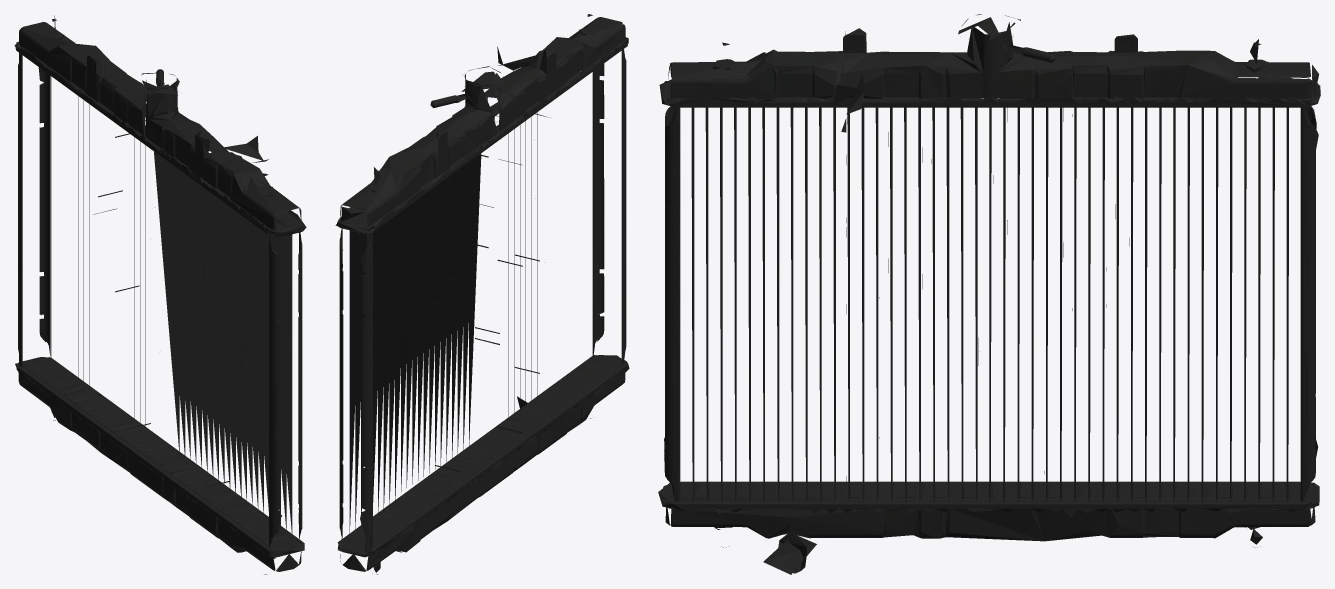
File: coolingSystem_radiator_a01.glb
3 views of the same model, side by side, from view 1: azimuth 30°, elevation 25°; view 2: azimuth 150°, elevation 25°; view 3: azimuth 270°, elevation 25° (orthographic). The views are drawn at different scales.
Parts seen in each view (by area): view 1: geometry_0; view 2: geometry_0; view 3: geometry_0.
Part boxes in pixels (x1=…): geometry_0: x1=14, y1=15, x2=306, y2=574; geometry_0: x1=335, y1=14, x2=629, y2=574; geometry_0: x1=658, y1=14, x2=1320, y2=574.
Size of the model in its own units: 0.0628 by 0.3655 by 0.42.
1 material, 1 textured.
